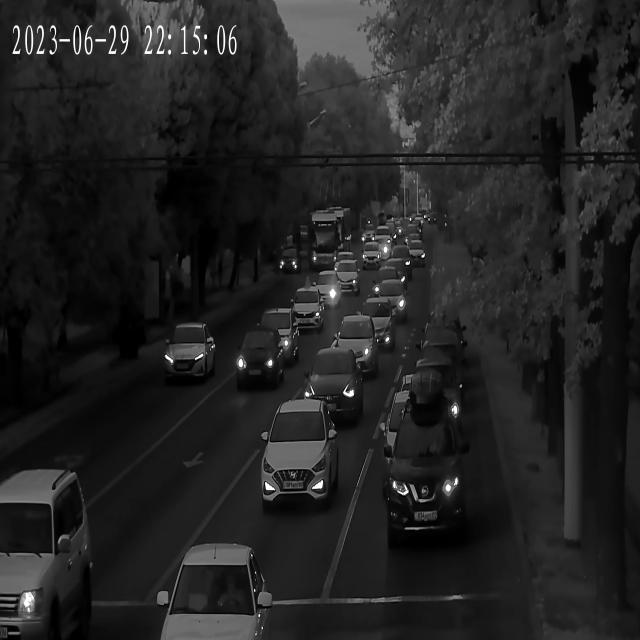Bus: (311, 206, 352, 273)
Car: (0, 464, 92, 640), (388, 397, 464, 544), (161, 539, 267, 640), (262, 402, 334, 508), (386, 384, 452, 477), (304, 347, 368, 420), (398, 358, 454, 434), (162, 314, 218, 381), (415, 331, 465, 402), (237, 329, 283, 389), (338, 313, 378, 381), (258, 307, 304, 362), (362, 299, 396, 353), (292, 279, 326, 331), (372, 282, 406, 318), (333, 260, 359, 294), (317, 271, 340, 309), (379, 257, 406, 287), (278, 247, 300, 276), (394, 247, 412, 282), (407, 236, 425, 269), (362, 240, 380, 270), (372, 238, 393, 256), (404, 224, 420, 243), (382, 220, 398, 239), (376, 224, 391, 244), (362, 223, 375, 242)
